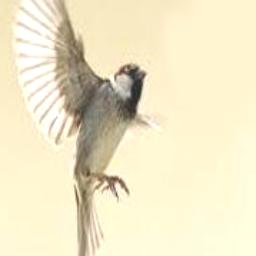Sparrow: (14, 0, 160, 256)
